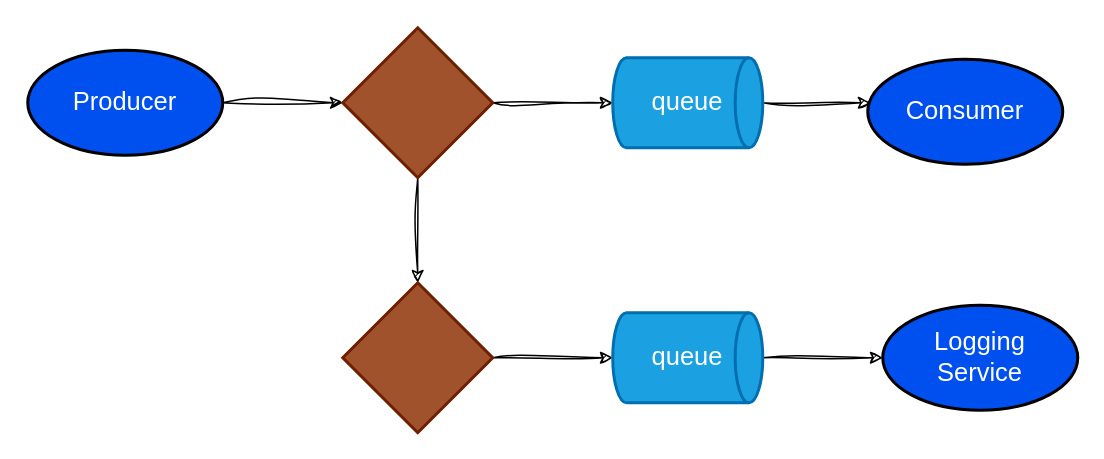
This 1104x459 diagram has some shape labels left out. Each missing label, with the centre of its shape:
Alternate Exchange: pixel 417 357
Main Exchange: pixel 417 102
